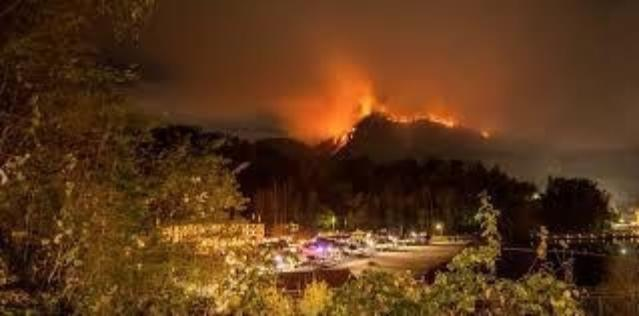fire: (297, 88, 459, 142)
smoke: (142, 6, 639, 178)
